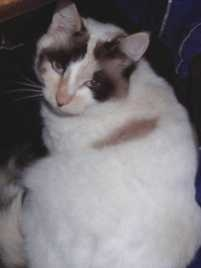Cat: (22, 3, 200, 267)
